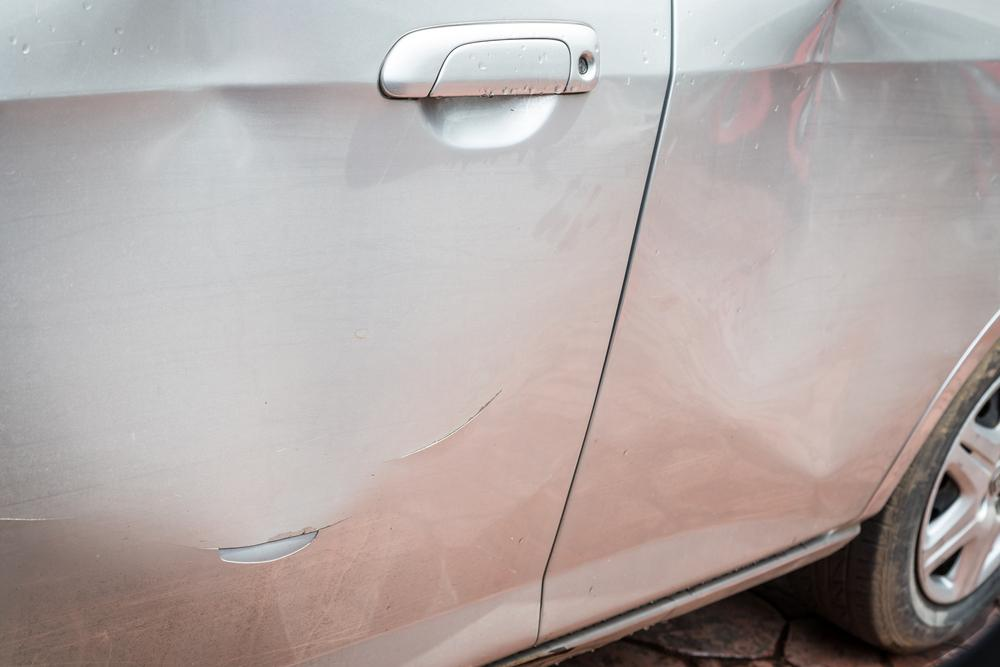crack: (386, 389, 503, 462), (177, 515, 352, 563)
dent: (671, 0, 1000, 476), (112, 0, 335, 219)
